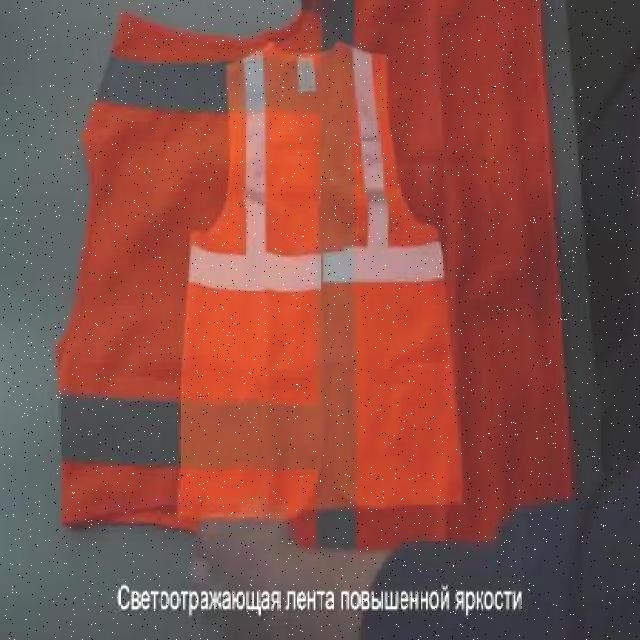Mask: (52, 0, 577, 560), (168, 33, 468, 518)
